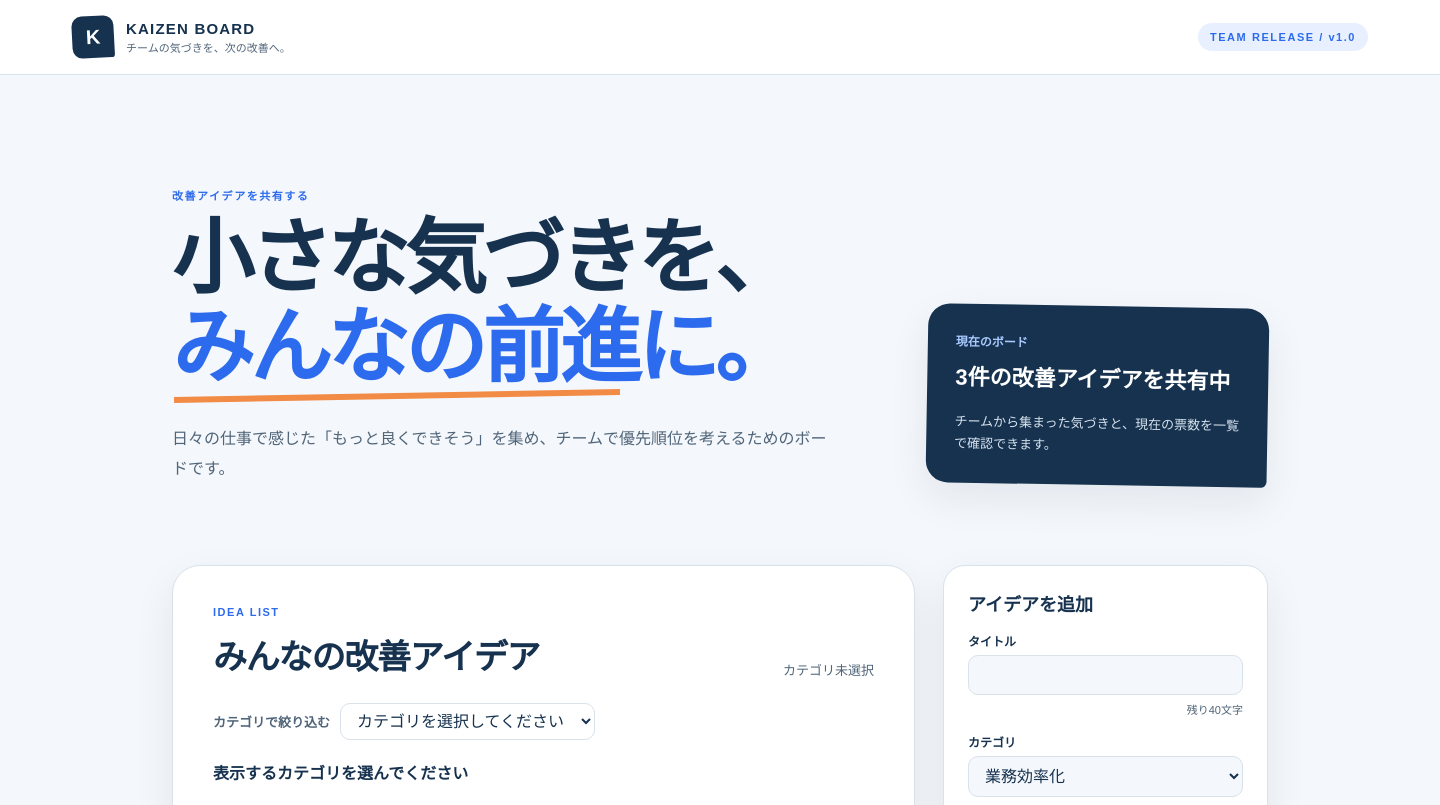
Test: スターターアプリ › カテゴリを選ぶと、そのカテゴリのアイデアと現在の票数を表示する
Select "顧客対応" in the dropdown labelled "カテゴリで絞り込む" at (468,721), box [340,703,595,740]
(page scrolled)
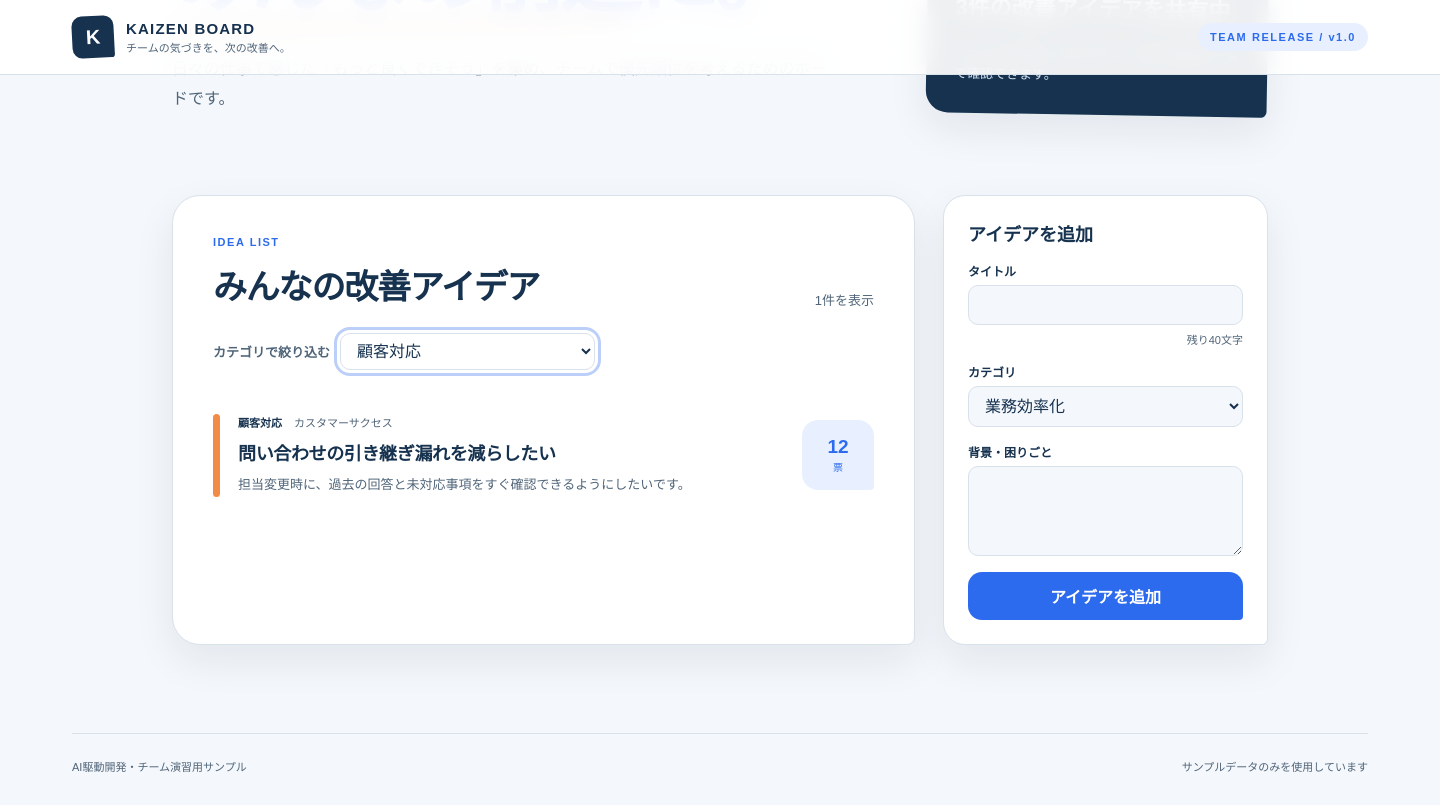
Result: the heading "問い合わせの引き継ぎ漏れを減らしたい" is shown at [238,444,556,464]
Result: the element named "問い合わせの引き継ぎ漏れを減らしたいの投票数は12票です" is shown at [802,420,874,490]
